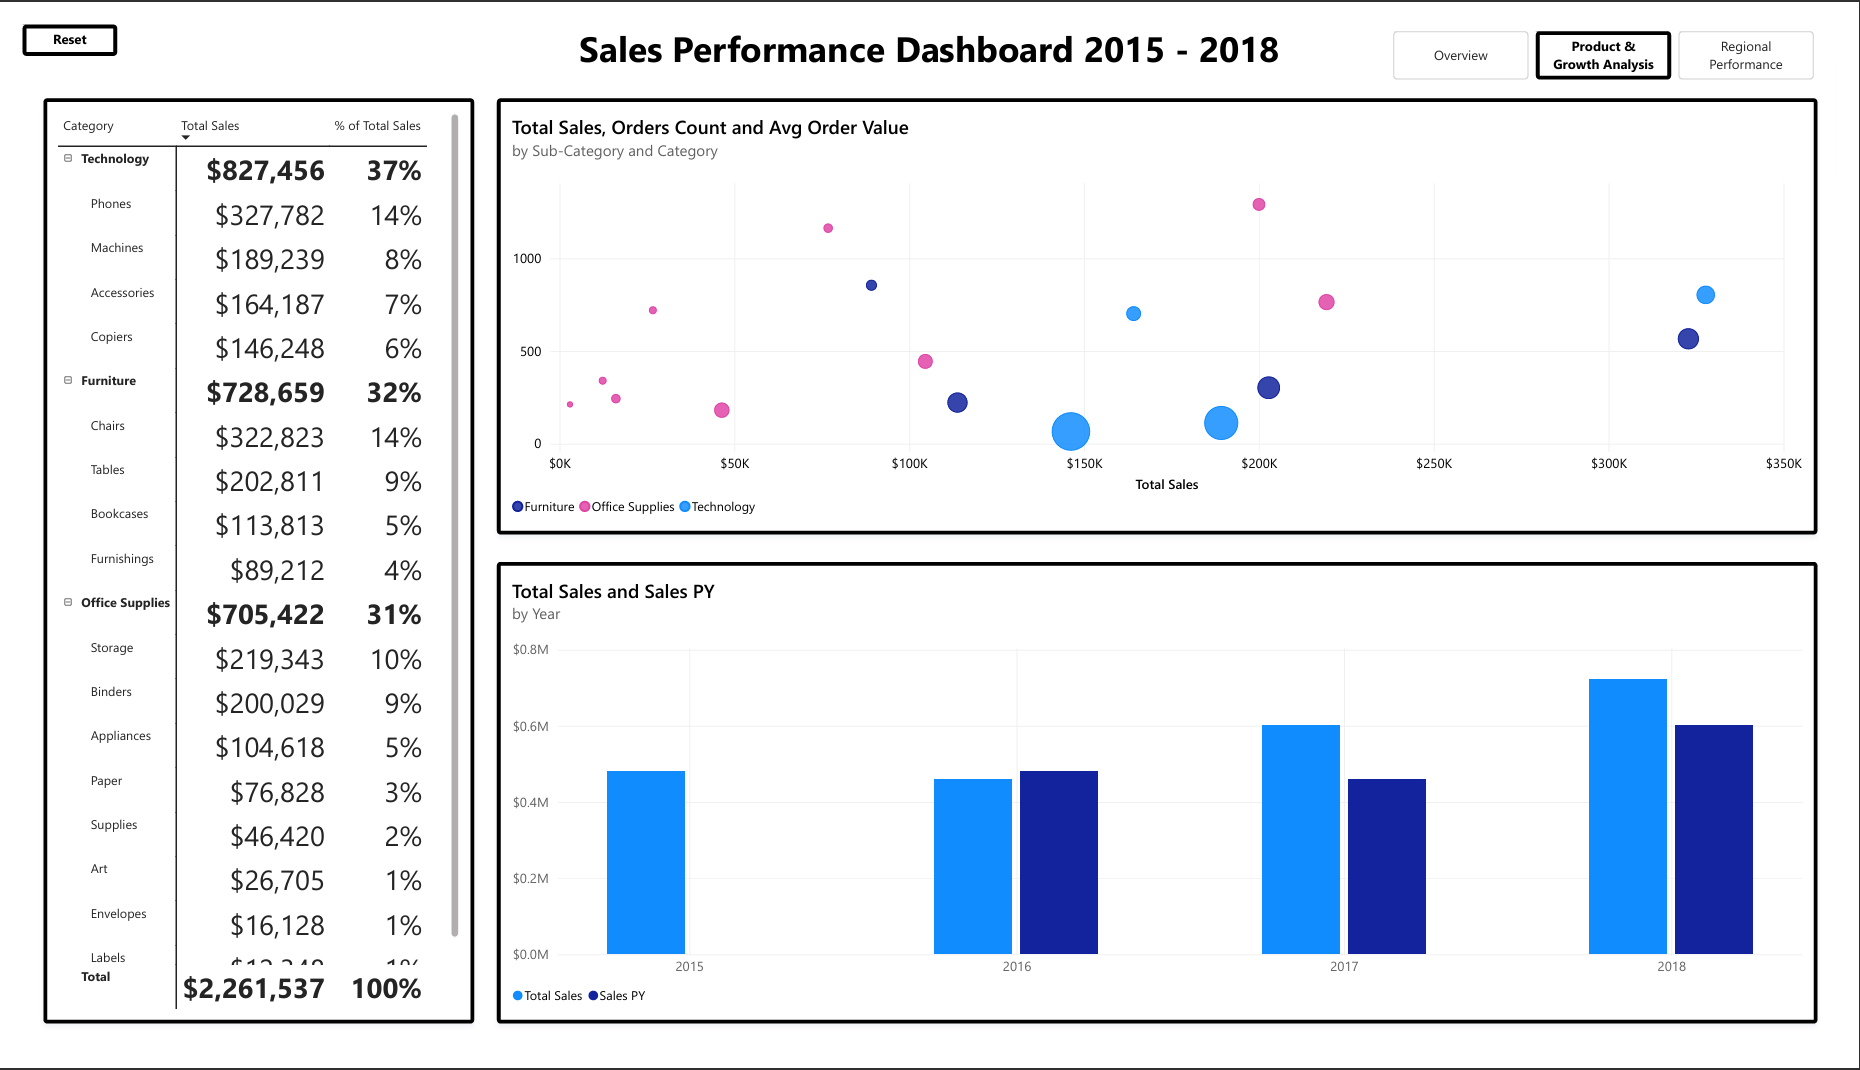

Layout of this report page (visuals, bound fields, positions):
{"tool":"powerbi","page":{"name":"Product & Growth Analysis","canvas":[1920,1080],"ordinal":1},"visuals":[{"type":"pivotTable","fields":{"Rows":["Orders.Category","Orders.Sub-Category"],"Values":["_Measures.Total Sales","_Measures.% of Total Sales"]},"box":[21.8,78.2,456.4,980],"z":0},{"type":"scatterChart","fields":{"Category":["Orders.Sub-Category"],"Series":["Orders.Category"],"Size":["_Measures.Avg Order Value"],"X":["_Measures.Total Sales"],"Y":["_Measures.Orders Count"]},"box":[501.8,78.2,1398.2,461.8],"z":1000},{"type":"clusteredColumnChart","fields":{"Category":["Calendar.Year"],"Y":["_Measures.Total Sales","_Measures.Sales PY"]},"box":[501.8,569.1,1398.2,489.1],"z":2000},{"type":"textbox","box":[0,0,1920,65],"z":8000},{"type":"actionButton","box":[0,0,100,32.7],"z":9000},{"type":"pageNavigator","box":[1450.9,7.3,447.3,50.9],"z":10000}]}

Visuals, with their boxes on the page's 1920x1080 design canvas (x1, y1, x2, y2). These are canvas units, not pixel positions in the 1860x1070 screenshot, which may show the page scaled, cropped or inside an application window:
pivotTable - Orders.Category x Orders.Sub-Category: [x1=22, y1=78, x2=478, y2=1058]
scatterChart - Orders.Sub-Category x Orders.Category: [x1=502, y1=78, x2=1900, y2=540]
clusteredColumnChart - Calendar.Year x _Measures.Total Sales: [x1=502, y1=569, x2=1900, y2=1058]
textbox: [x1=0, y1=0, x2=1920, y2=65]
actionButton: [x1=0, y1=0, x2=100, y2=33]
pageNavigator: [x1=1451, y1=7, x2=1898, y2=58]
